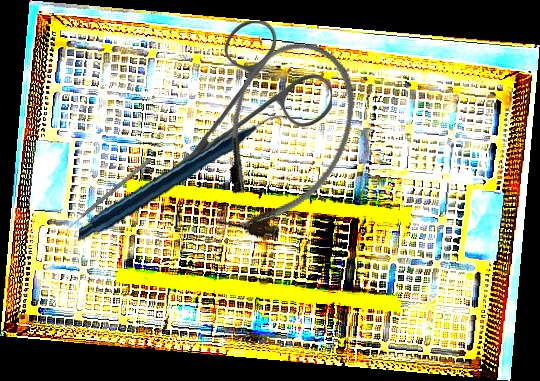Cannula: (190, 24, 378, 258)
Handpiece: (78, 98, 287, 259)
Iris Scissors: (162, 19, 334, 189)
Pusher: (61, 158, 152, 234)
